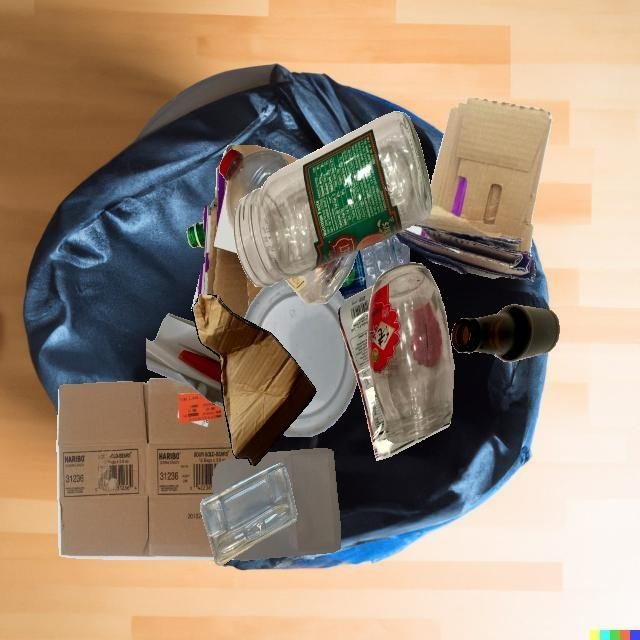cardboard: (56, 378, 236, 560), (393, 97, 552, 281), (192, 294, 316, 465), (191, 166, 265, 318)
glass: (234, 111, 433, 287), (367, 262, 454, 444), (451, 304, 560, 362)
paper: (146, 313, 224, 409)
plastic: (338, 285, 451, 460), (244, 279, 358, 436), (212, 448, 341, 560), (200, 462, 297, 566), (219, 149, 290, 230), (338, 235, 410, 301), (284, 250, 358, 305), (186, 221, 205, 248)
